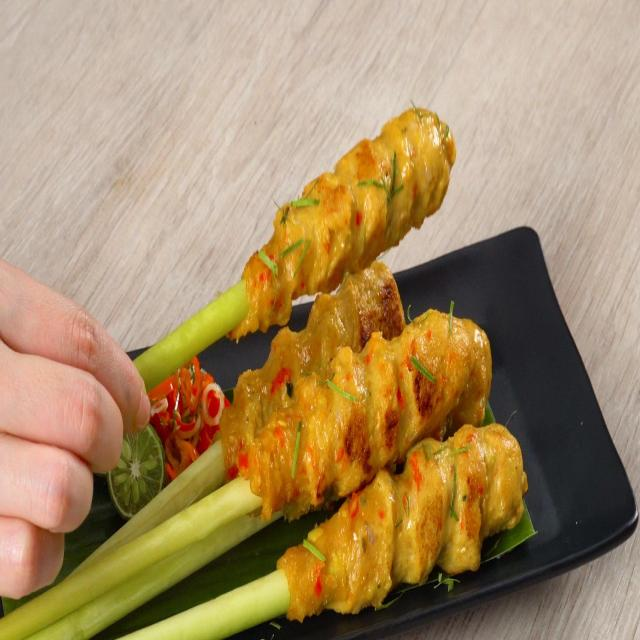Sate: (131, 109, 559, 640)
